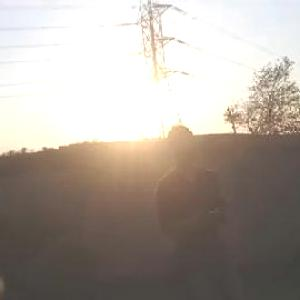follow: (152, 120, 236, 299)
